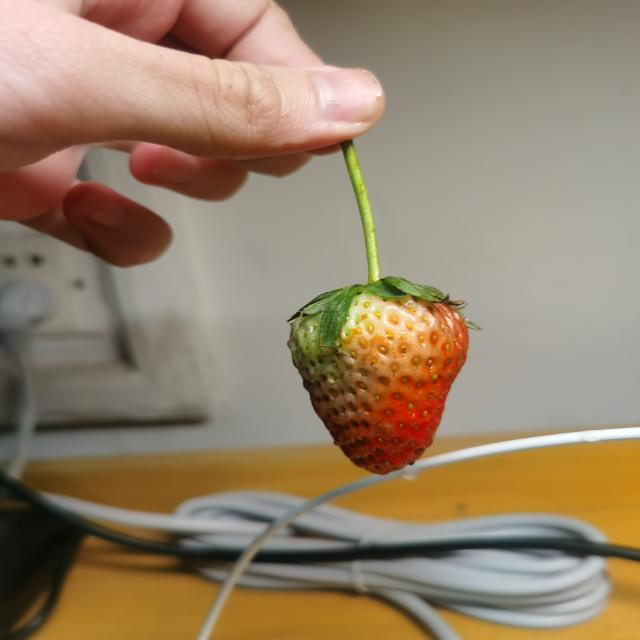stem: (356, 198, 380, 287)
strawberry: (288, 276, 468, 476)
